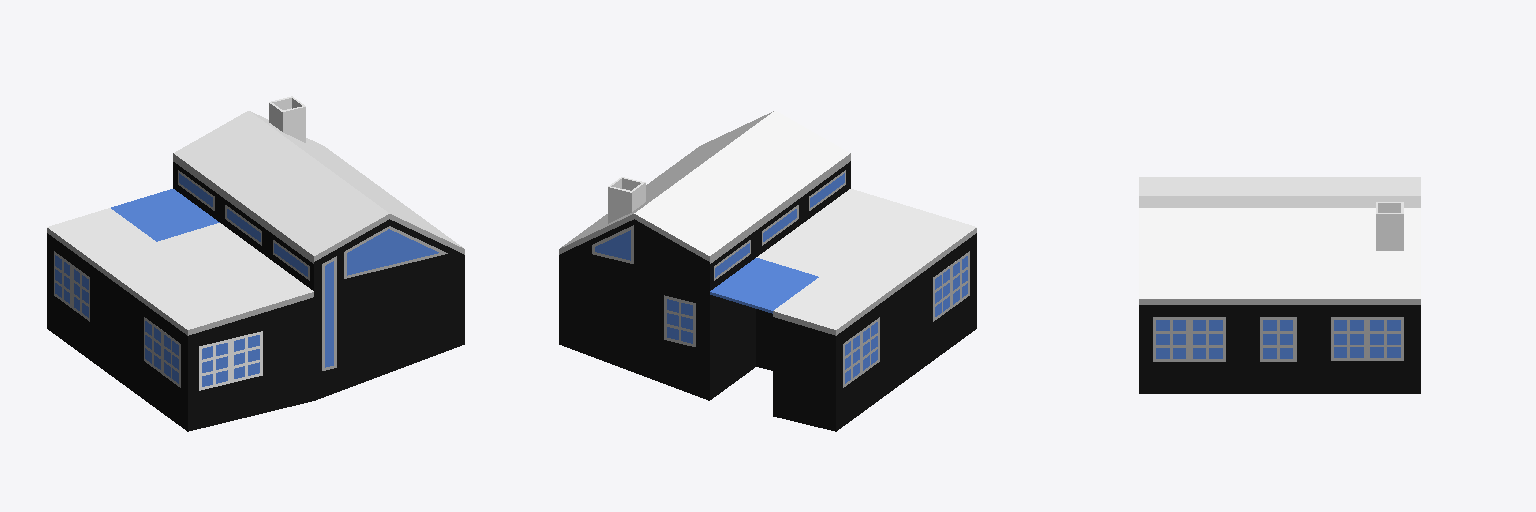
File: huis.obj
3 views of the same model, side by side, from view 1: azimuth 30°, elevation 25°; view 2: azimuth 150°, elevation 25°; view 3: azimuth 270°, elevation 25° (orthographic).
Visible parts, largest first — view 1: Layer0_001; view 2: Layer0_001; view 3: Layer0_001.
Part boxes in pixels (x1,y1,x2,y2): Layer0_001: (47, 96, 464, 431); Layer0_001: (559, 111, 976, 431); Layer0_001: (1139, 177, 1420, 393).
Bounding box in the file's own units: 433 × 270 × 381.